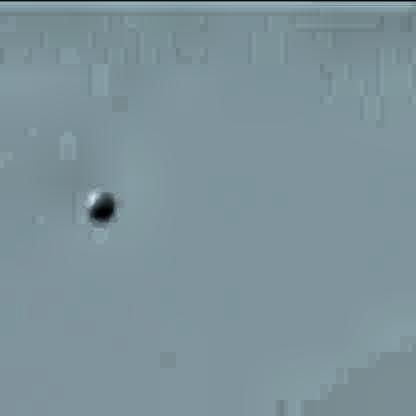golfball: (84, 186, 114, 217)
